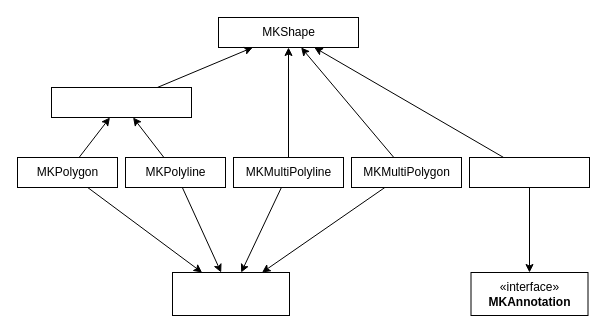
The diagram is 607 pixels wide and 333 high, and some of its shapes have lost their labels. The centre of each missing label's shape, as x and y in pixels:
MKMultiPoint: point 121,102
MKPointAnnotation: point 529,172
«interface» MKOverlay: point 231,294
